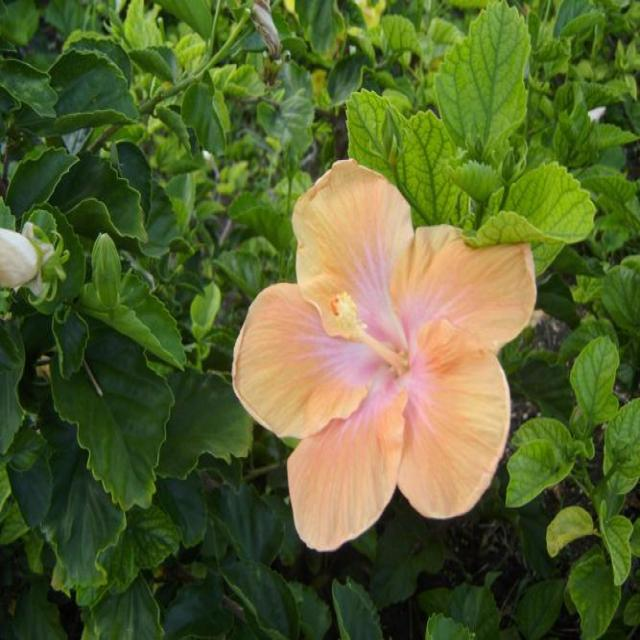hibiscus: (228, 130, 546, 569)
